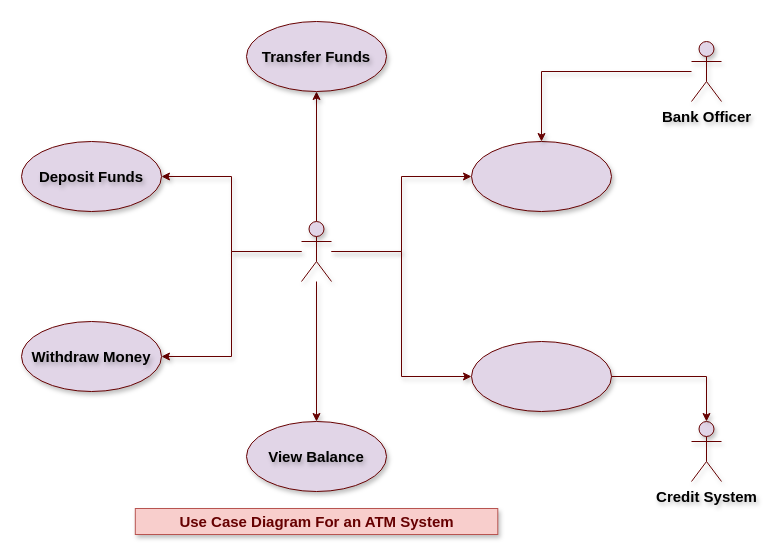
The diagram is 774 pixels wide and 559 high, and some of its shapes have lost their labels. The shapes that lost their labels are listed below. From the top down, each one's centre as x and y in pixels, then its label:
At (542,177): "Change PIN".
At (317,252): "Customer".
At (542,377): "Make Payment".
